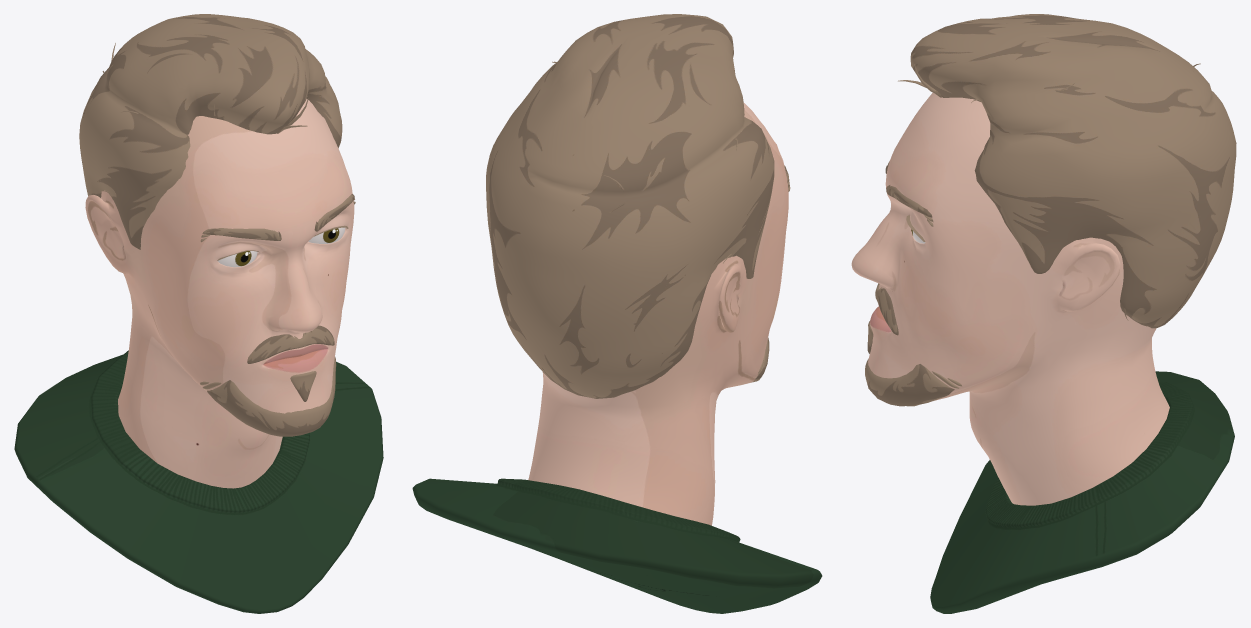
3 renders of one model, left to right at view 1: azimuth 30°, elevation 25°; view 2: azimuth 150°, elevation 25°; view 3: azimuth 270°, elevation 25°, orthographic. The views are drawn at different scales.
Visible parts, largest first — view 1: Head_High, Shirt, Hair, Chin, Moustach, Eye_Brow_R; view 2: Hair, Head_High, Shirt; view 3: Head_High, Hair, Shirt, Chin, Moustach.
Part boxes in pixels (x1,y1,x2,y2): Head_High: [85, 99, 354, 488]; Shirt: [14, 350, 383, 613]; Hair: [79, 14, 342, 249]; Chin: [200, 357, 336, 436]; Moustach: [247, 325, 334, 363]; Eye_Brow_R: [200, 228, 281, 242]; Hair: [486, 14, 774, 398]; Head_High: [528, 103, 788, 525]; Shirt: [412, 478, 822, 613]; Head_High: [851, 92, 1169, 505]; Hair: [898, 14, 1236, 328]; Shirt: [930, 371, 1234, 613]; Chin: [865, 359, 961, 406]; Moustach: [875, 283, 898, 335].
Size of the model in its own units: 6.91 by 10.36 by 6.23.
4 materials, 4 textured.
